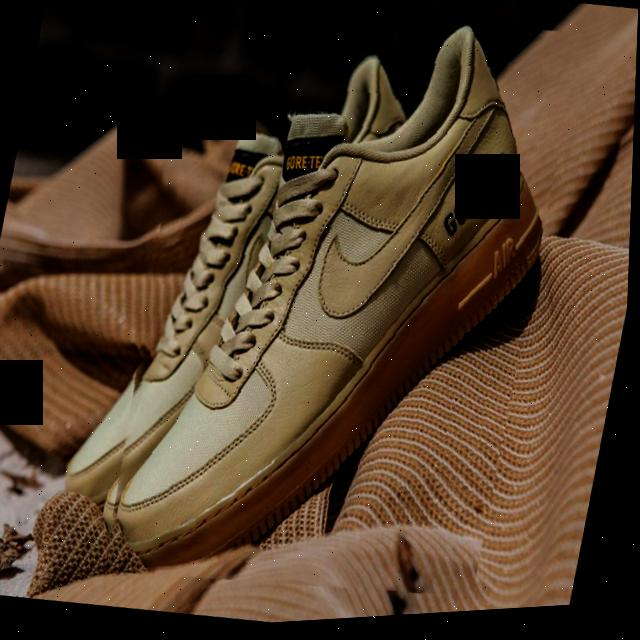shoe: (90, 0, 584, 632)
